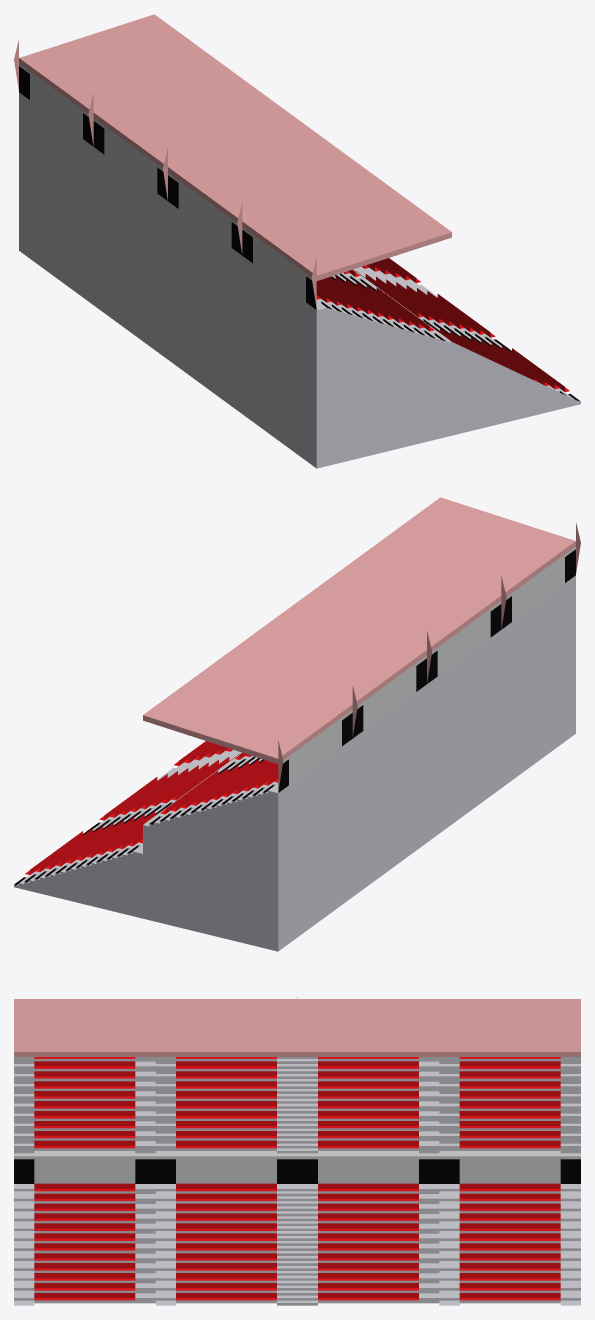
The model's file is Tribune.fbx.
3 views of the same model, one above another, from view 1: azimuth 30°, elevation 25°; view 2: azimuth 150°, elevation 25°; view 3: azimuth 270°, elevation 25° (orthographic). The views are drawn at different scales.
Visible parts, largest first — view 1: Naamloos; view 2: Naamloos; view 3: Naamloos.
Part boxes in pixels (box(x1,y1,x2,y2)): Naamloos: box(14, 14, 580, 468); Naamloos: box(14, 497, 580, 951); Naamloos: box(14, 997, 580, 1305).
Size of the model in its own units: 1045 by 788 by 2000.
